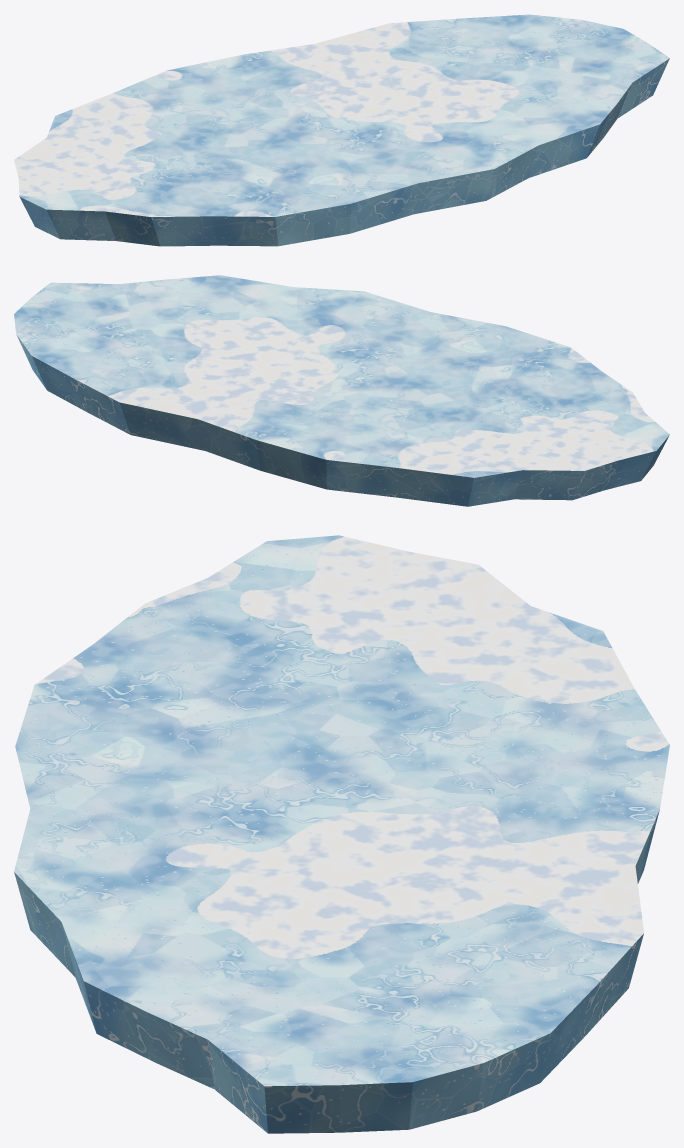
The model's file is ice_shelf.glb.
3 renders of one model, top to bottom at view 1: azimuth 30°, elevation 25°; view 2: azimuth 150°, elevation 25°; view 3: azimuth 270°, elevation 25°, orthographic. The views are drawn at different scales.
Parts seen in each view (by area): view 1: IceShelf; view 2: IceShelf; view 3: IceShelf.
Boxes of the visible parts, x1,y1,x2,y2 form: IceShelf: (14,14,669,246); IceShelf: (14,275,669,506); IceShelf: (14,535,669,1133).
Size of the model in its own units: 8.09 by 0.42 by 4.07.
1 material, 1 textured.
